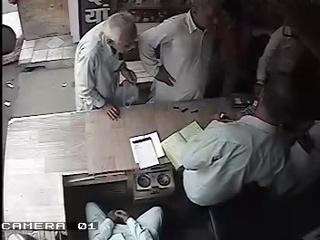Normal: (181, 60, 320, 239), (138, 0, 227, 104), (74, 12, 140, 122), (85, 202, 164, 239)
